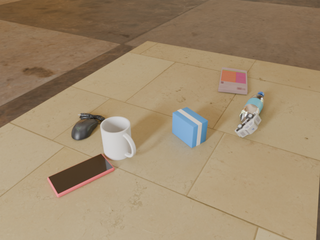book: (218, 67, 247, 94)
bottle: (240, 92, 264, 122)
box: (172, 107, 208, 148)
cup: (101, 117, 136, 160)
mouse: (72, 113, 105, 140)
phone: (48, 154, 114, 197)
toy_car: (235, 111, 261, 137)
